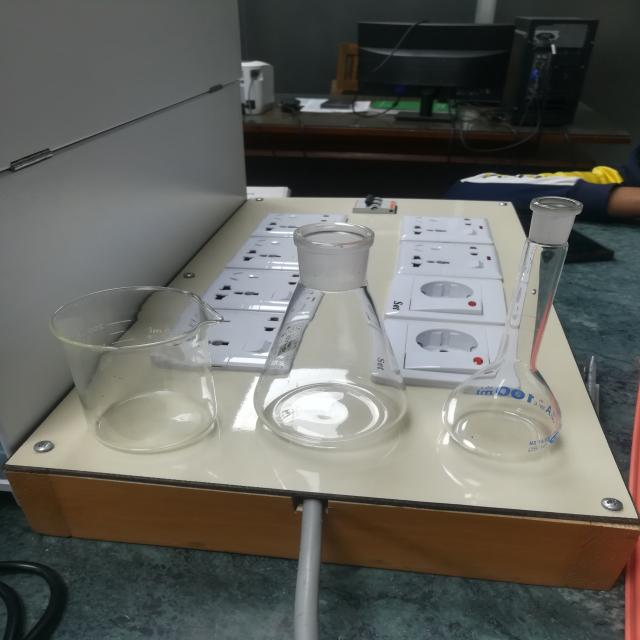Beaker: (35, 265, 232, 466)
Conical_Flask: (256, 210, 418, 463)
Volumetric_Flask: (437, 174, 593, 482)
